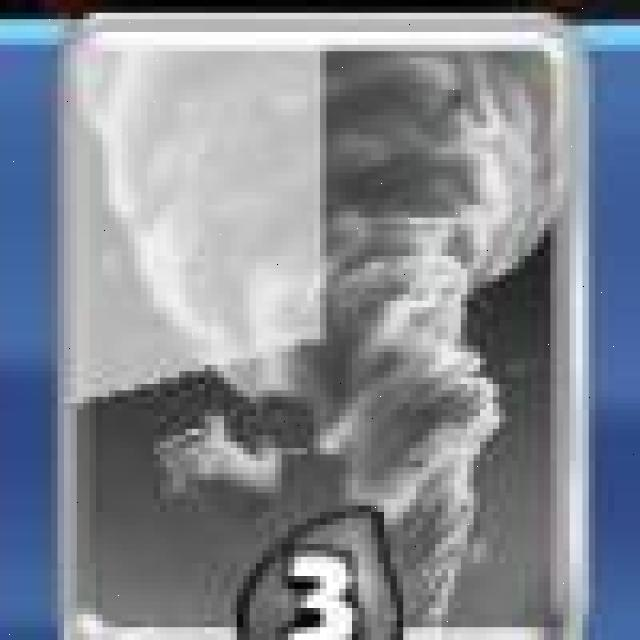Tornado: (48, 11, 594, 640)
